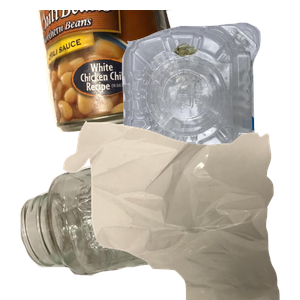glass: (18, 143, 227, 300)
metal: (34, 10, 213, 135)
plastic: (119, 20, 300, 190)
trash: (61, 120, 300, 300)
